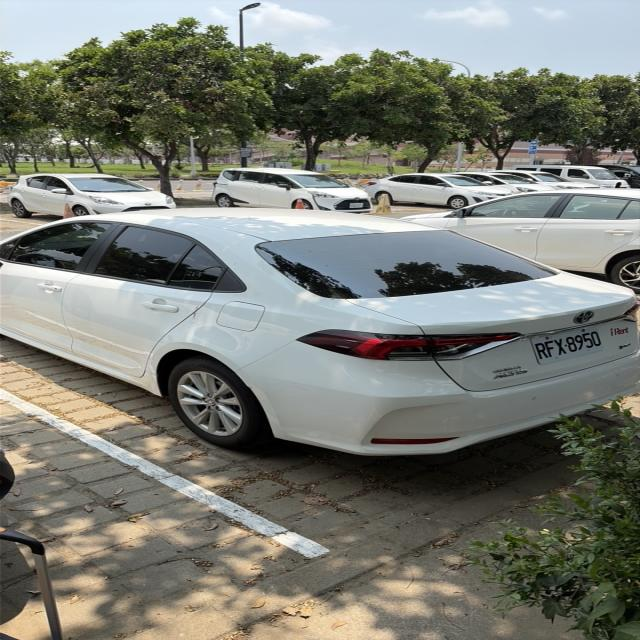license plate: (532, 328, 603, 364)
wheel: (169, 356, 270, 448)
